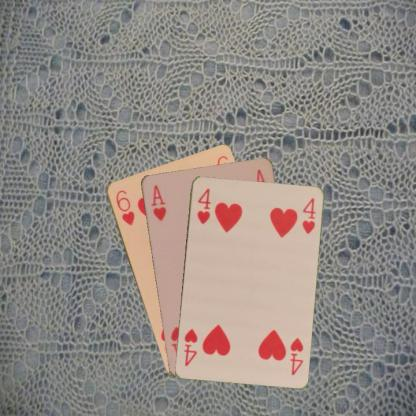4h: (286, 335, 304, 376), (194, 186, 212, 226)
6h: (112, 187, 136, 227)
Ah: (148, 182, 167, 222)
